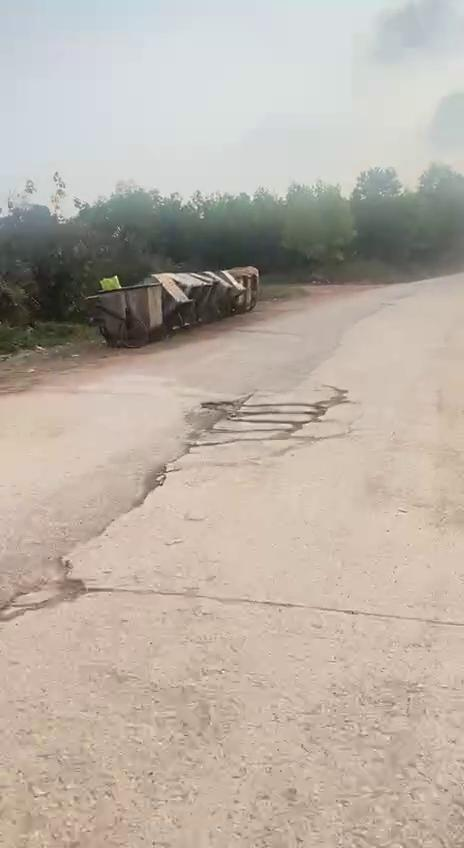pothole: (183, 390, 336, 451), (0, 546, 88, 618)
